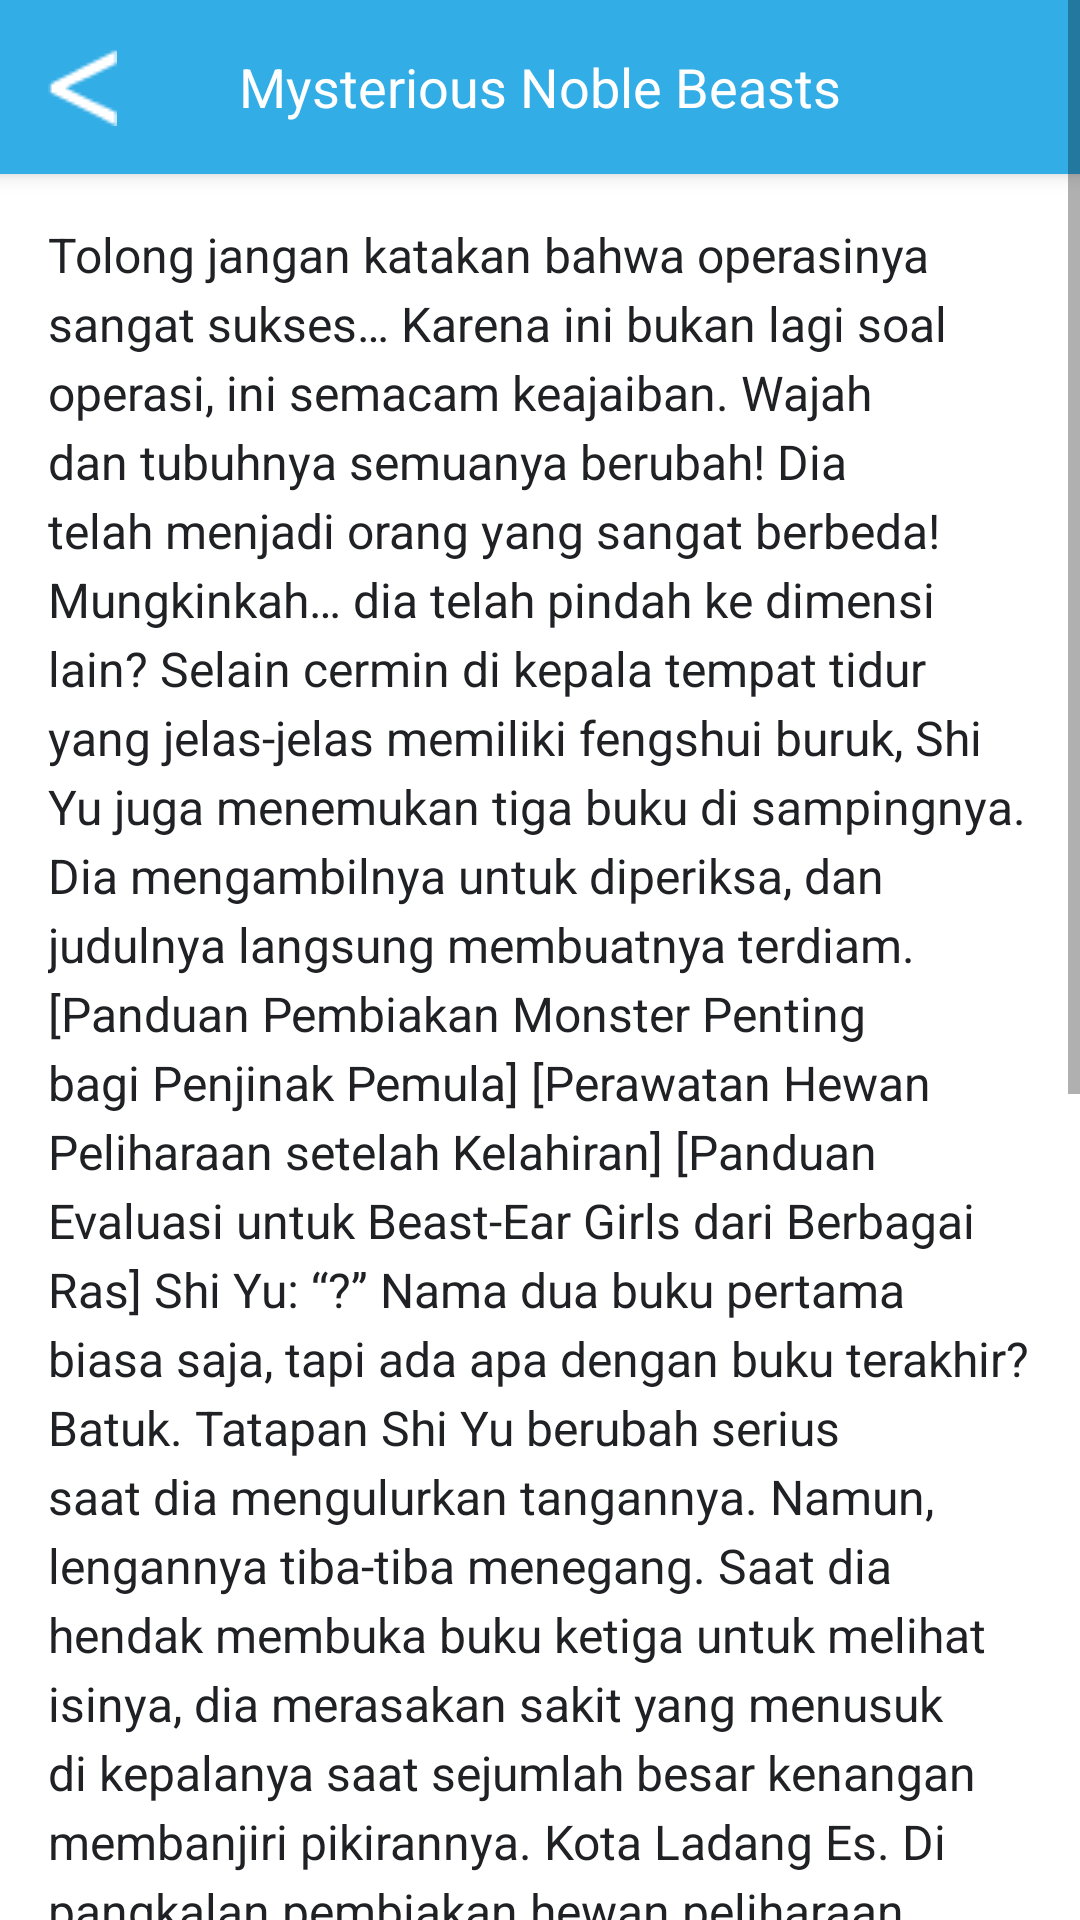

Screen size 1080w x 1920h. Icon name, then its box in pixels as (x1, y1, x2, y2):
back: (48, 50, 117, 126)
